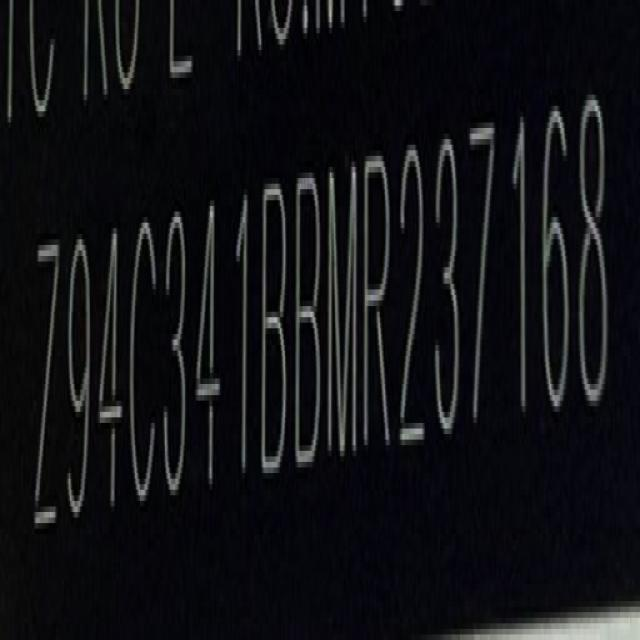1: (512, 109, 531, 432), (234, 185, 252, 494)
2: (398, 140, 429, 453)
3: (436, 132, 462, 449), (161, 210, 187, 501)
4: (197, 199, 226, 506), (98, 221, 126, 526)
6: (543, 102, 574, 420)
7: (466, 111, 499, 438)
8: (578, 96, 610, 413)
9: (67, 235, 93, 540)
B: (296, 166, 326, 478), (260, 176, 290, 484)
C: (131, 217, 161, 518)
M: (326, 157, 361, 474)
R: (363, 152, 394, 462)
Z: (34, 231, 63, 546)
